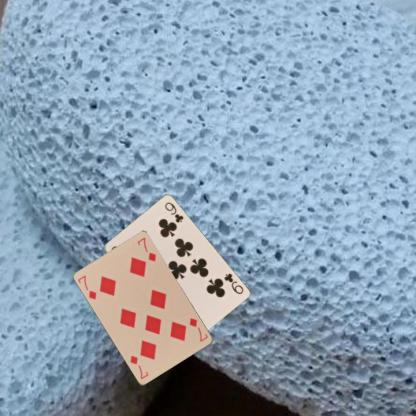7d: (76, 273, 98, 301), (187, 316, 209, 343)
9c: (222, 271, 244, 296)
